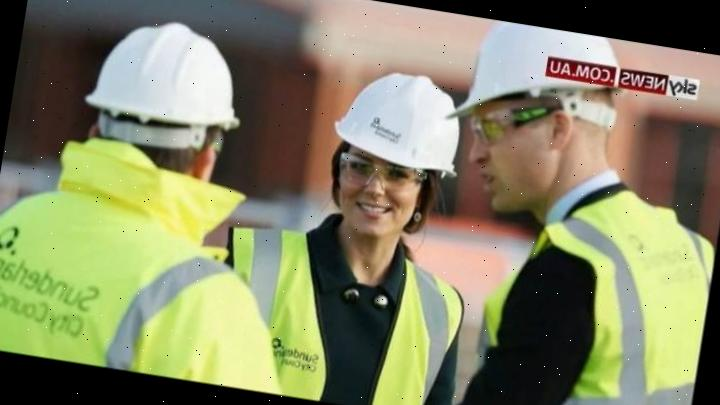helmet: (448, 14, 640, 153), (74, 5, 252, 142), (332, 68, 466, 186)
wear: (0, 164, 270, 389), (469, 190, 713, 405), (212, 226, 462, 405)
